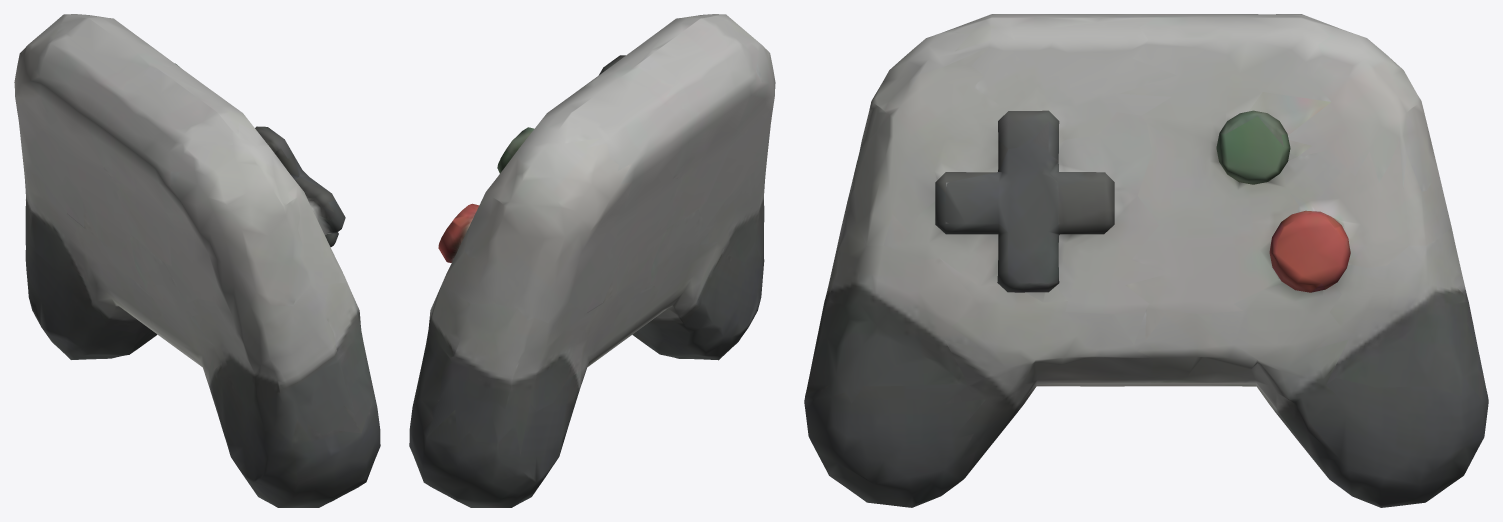
Rendered from play.glb.
The picture shows the model from 3 angles, left to right: view 1: azimuth 30°, elevation 25°; view 2: azimuth 150°, elevation 25°; view 3: azimuth 270°, elevation 25°; orthographic projection. The views are drawn at different scales.
Parts seen in each view (by area): view 1: tripo_node_d525379e-7714-4ad6-9c2e-b6aaad4c18ba; view 2: tripo_node_d525379e-7714-4ad6-9c2e-b6aaad4c18ba; view 3: tripo_node_d525379e-7714-4ad6-9c2e-b6aaad4c18ba.
Part boxes in pixels (left/top/right/bottom): tripo_node_d525379e-7714-4ad6-9c2e-b6aaad4c18ba: left=14, top=14, right=380, bottom=507; tripo_node_d525379e-7714-4ad6-9c2e-b6aaad4c18ba: left=409, top=14, right=775, bottom=507; tripo_node_d525379e-7714-4ad6-9c2e-b6aaad4c18ba: left=804, top=14, right=1488, bottom=507.
Bounding box in the file's own units: 0.7486 × 1.46 × 2.
1 material, 1 textured.
